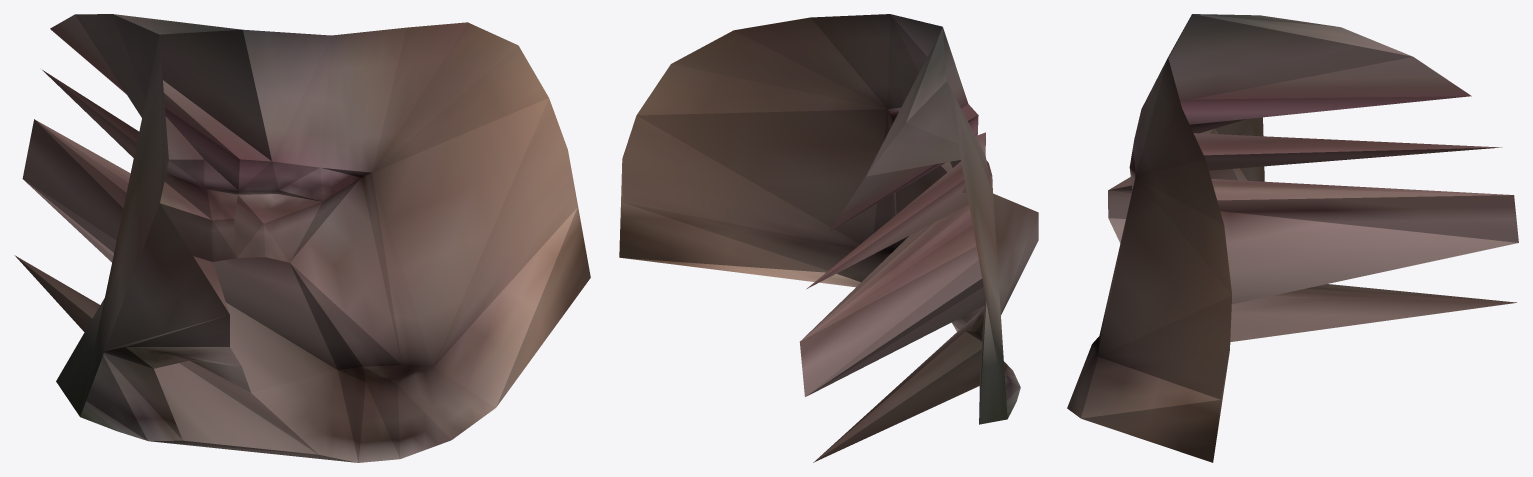
The model's file is fake_16785.obj.
3 renders of one model, left to right at view 1: azimuth 30°, elevation 25°; view 2: azimuth 150°, elevation 25°; view 3: azimuth 270°, elevation 25°, orthographic. The views are drawn at different scales.
Size of the model in its own units: 109 by 87 by 103.
